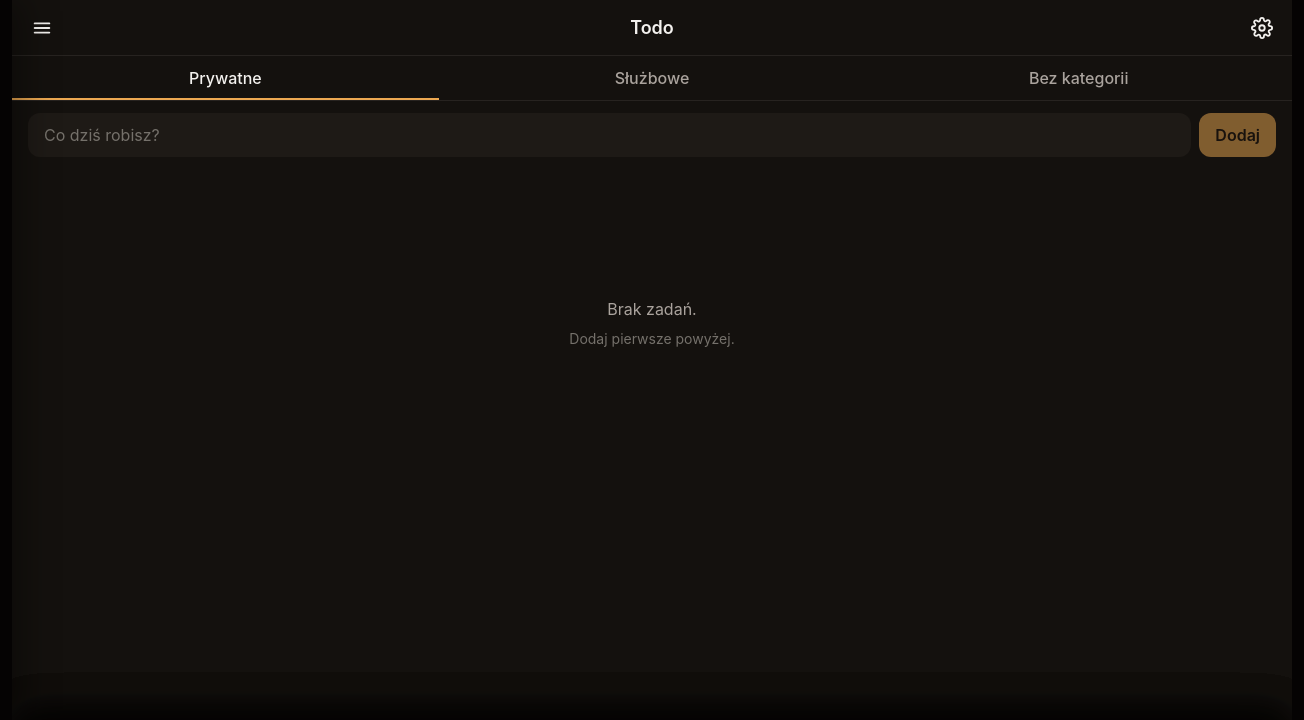
it: MainList — legacy todos without category (regression) › surfaces a categoryless todo under a virtual "Bez kategorii" tab
Click the tab "Bez kategorii" at (1079, 78), box [865,56,1292,100]
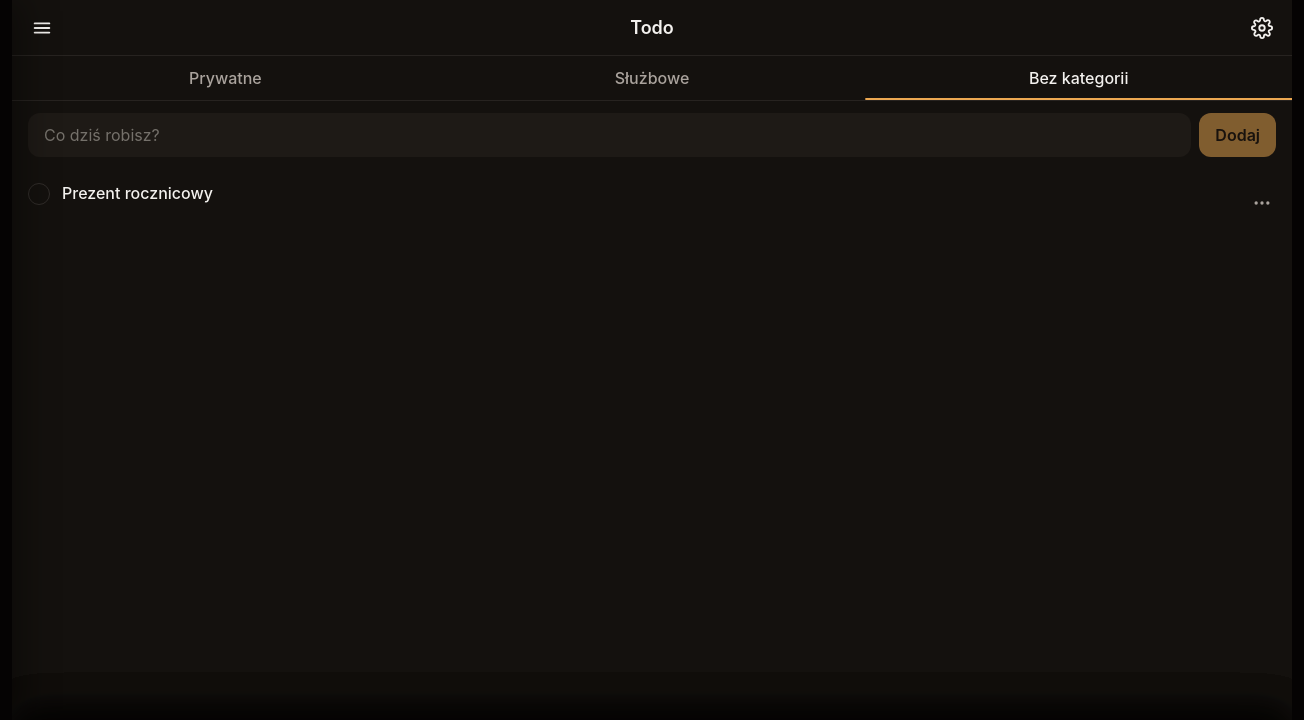
Expected: the text "Prezent rocznicowy" is shown, [62,183,213,203]
